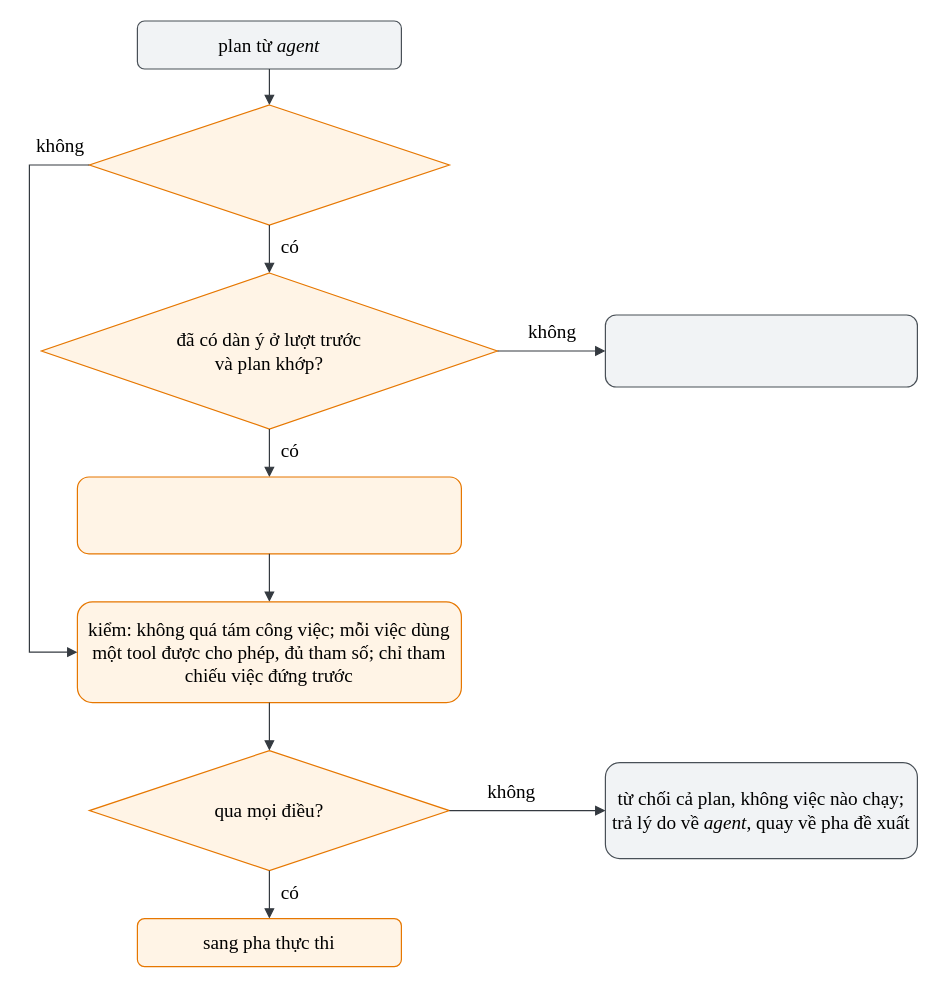
This 938x988 diagram has some shape labels left out. Here are the shapes that lost their labels. From the top down, the centre of each, then its label:
the point at 268,164: plan soạn câu hỏi?
the point at 760,350: trả lý do về agent , quay về pha đề xuất
the point at 268,515: bổ sung số câu, đề kiểm tra, tài liệu tham chiếu từ dàn ý đã lưu
